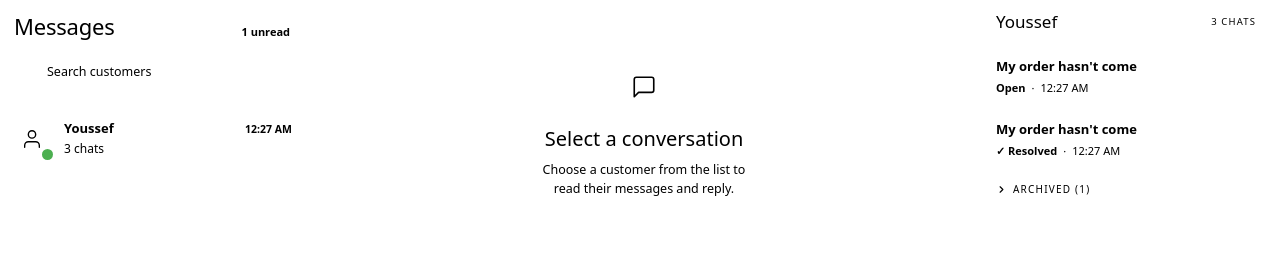
DashChatView — pane 1 (people) and pane 2 (rooms) › groups live rooms first, history next, and archived rooms into a collapsed group
Expected: the number of list items with class "mrc-room-row" is 2, top-left (996, 57), bottom-right (1137, 95); top-left (996, 120), bottom-right (1137, 158)
Click the button "Archived (1)": (1046, 189) top-left (978, 171), bottom-right (1274, 208)
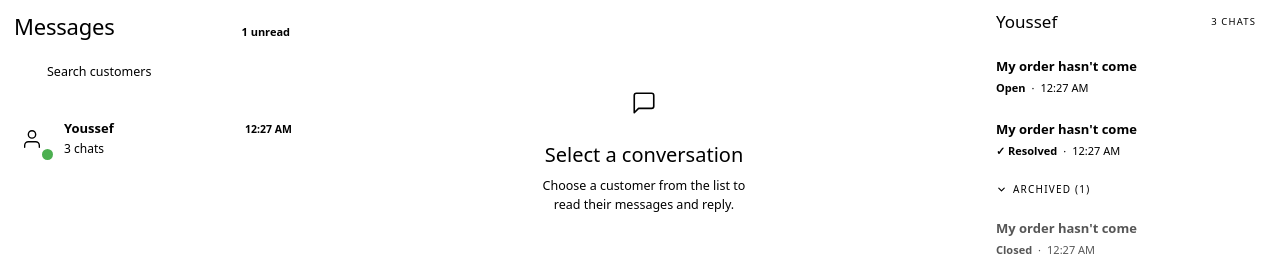
Expected: the number of list items with class "mrc-room-row" is 3, top-left (996, 57), bottom-right (1137, 95); top-left (996, 120), bottom-right (1137, 158); top-left (996, 219), bottom-right (1137, 257)
